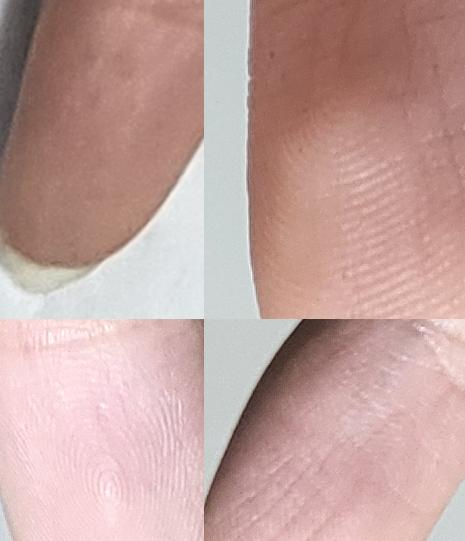Fingerprints: (204, 319, 465, 541), (0, 319, 204, 541)
